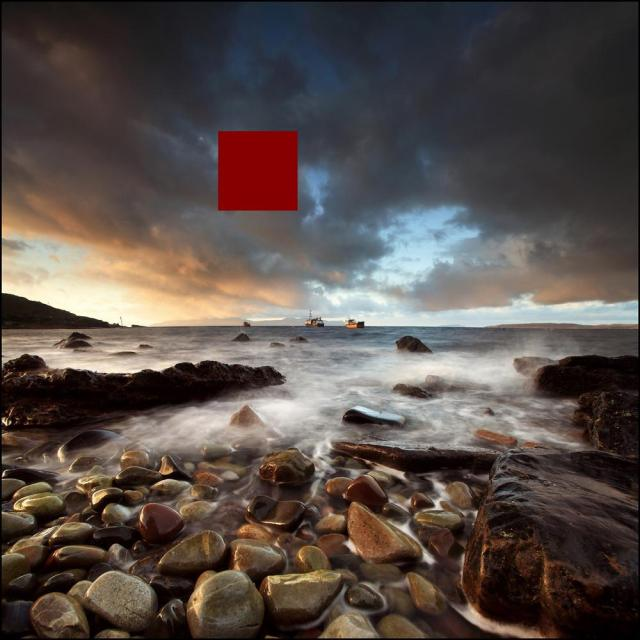RedSquare: (215, 126, 309, 218)
